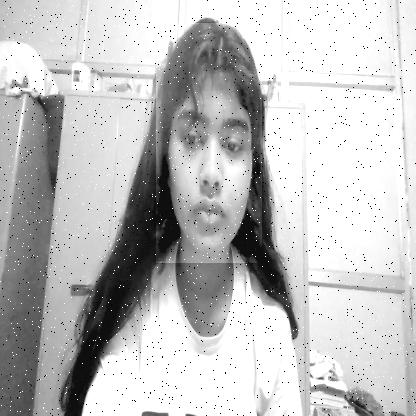Normal: (156, 23, 262, 263)
